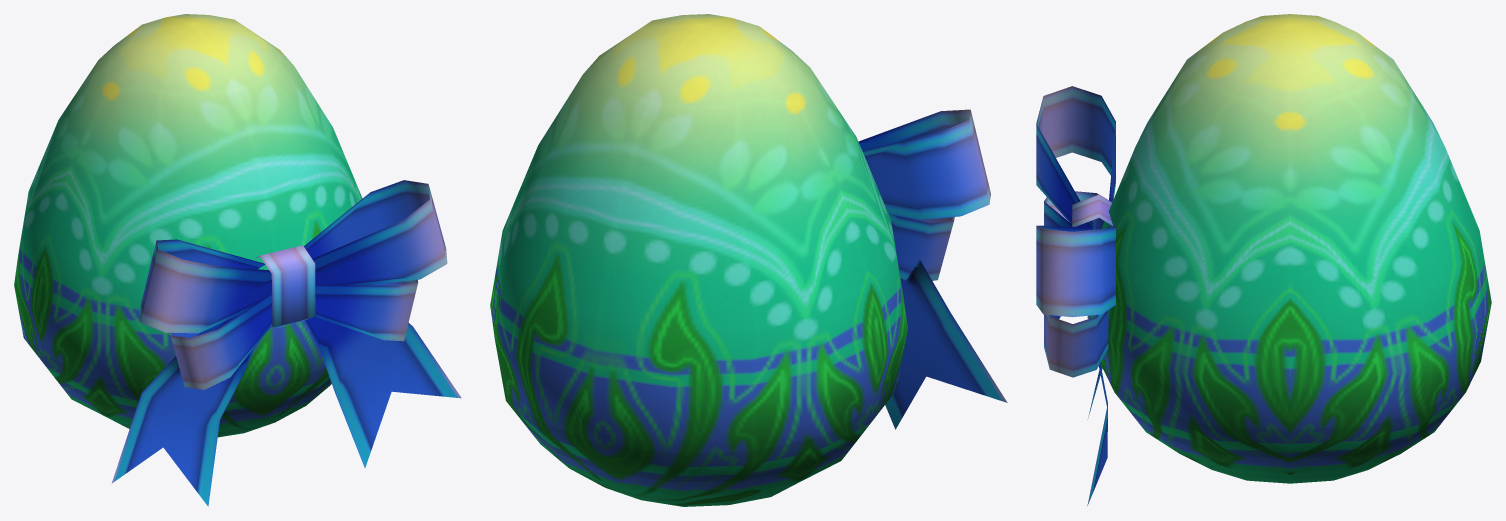
Rendered from egg5.glb.
3 renders of one model, left to right at view 1: azimuth 30°, elevation 25°; view 2: azimuth 150°, elevation 25°; view 3: azimuth 270°, elevation 25°, orthographic. The views are drawn at different scales.
Visible parts, largest first — view 1: Egg_Collect_5; view 2: Egg_Collect_5; view 3: Egg_Collect_5.
Part boxes in pixels (box(x1,y1,x2,y2)): Egg_Collect_5: box(14, 14, 461, 506); Egg_Collect_5: box(490, 14, 1007, 506); Egg_Collect_5: box(1036, 14, 1491, 505).
Size of the model in its own units: 1.11 by 1.21 by 1.13.
1 material, 1 textured.
